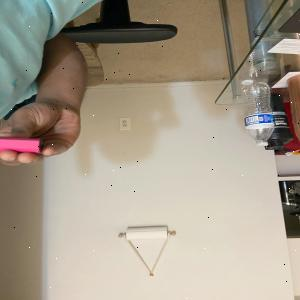Blume-E-Ciggirate: (0, 136, 48, 158)
